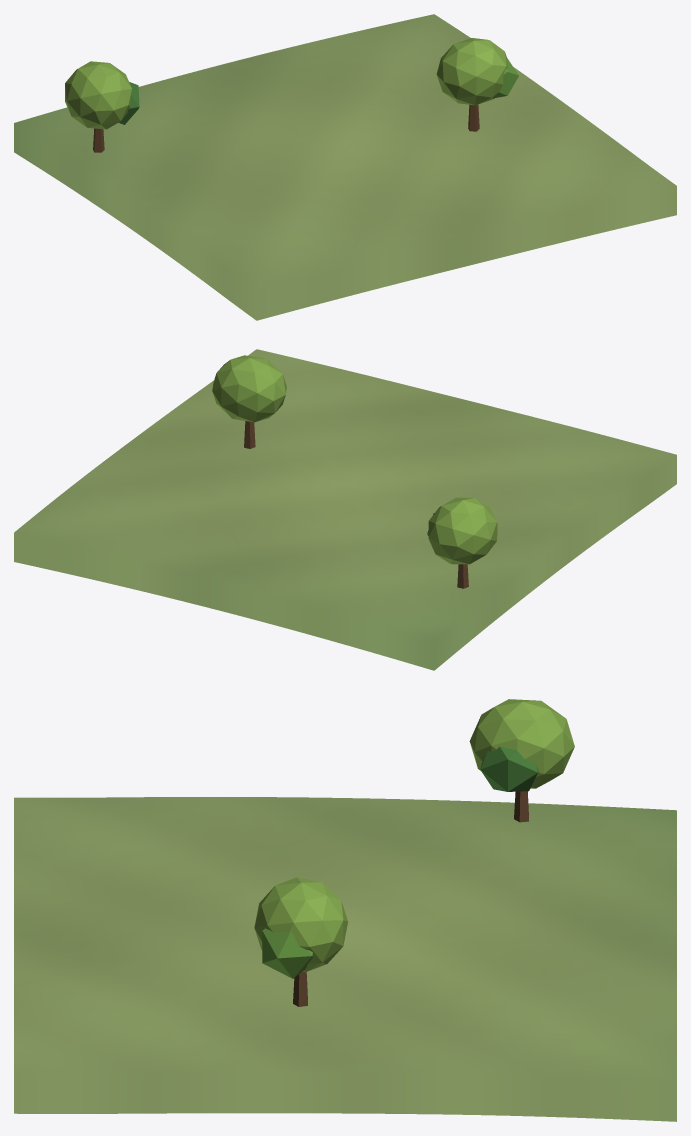
The picture shows the model from 3 angles, top to bottom: view 1: azimuth 30°, elevation 25°; view 2: azimuth 150°, elevation 25°; view 3: azimuth 270°, elevation 25°; orthographic projection. The views are drawn at different scales.
Parts seen in each view (by area): view 1: terrain, scenery; view 2: terrain, scenery; view 3: terrain, scenery.
Part boxes in pixels (x1,y1,x2,y2): terrain: [14, 14, 676, 320]; scenery: [65, 38, 518, 152]; terrain: [14, 349, 676, 670]; scenery: [212, 355, 497, 588]; terrain: [14, 797, 676, 1121]; scenery: [254, 699, 574, 1006].
Size of the model in its own units: 30.13 by 9.11 by 30.
